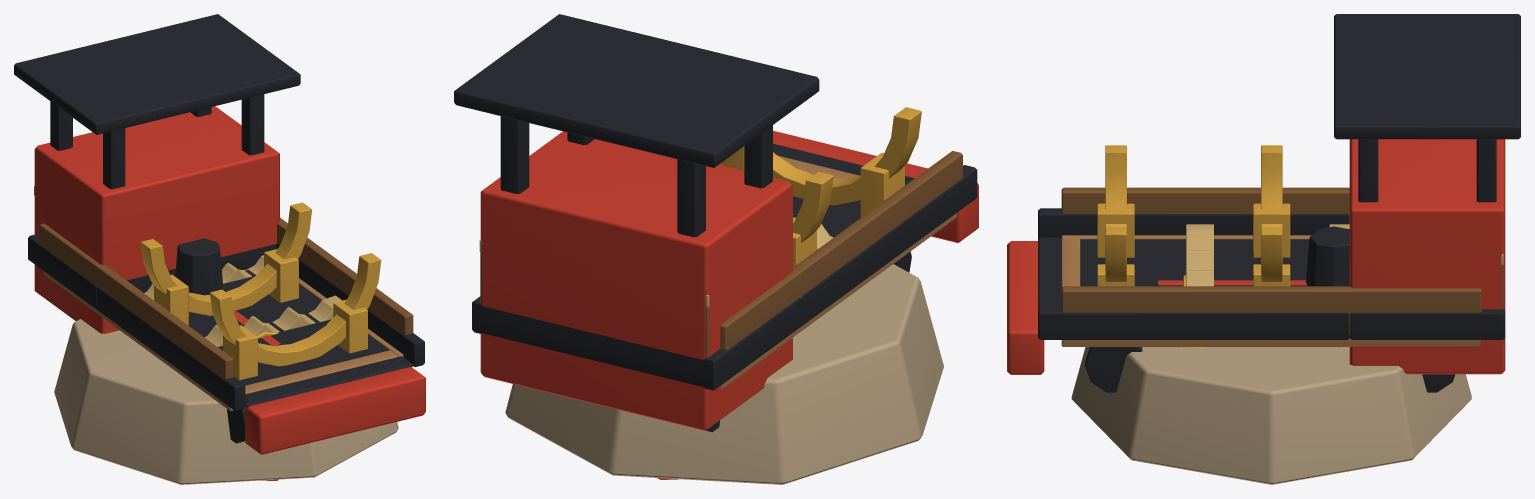
Rendered from boiler-cart.glb.
3 renders of one model, left to right at view 1: azimuth 30°, elevation 25°; view 2: azimuth 150°, elevation 25°; view 3: azimuth 270°, elevation 25°, orthographic. The views are drawn at different scales.
Parts seen in each view (by area): view 1: cab_and_bumper, chassis_roof_and_posts, plinth, empty_saddles, sidewalls_and_handle_posts, deck, grip_and_bearers, chimney, wheels_and_axles; view 2: cab_and_bumper, chassis_roof_and_posts, plinth, sidewalls_and_handle_posts, empty_saddles, deck; view 3: chassis_roof_and_posts, plinth, cab_and_bumper, sidewalls_and_handle_posts, empty_saddles, deck, chimney, wheels_and_axles, grip_and_bearers.
Boxes of the visible parts, x1,y1,x2,y2 form: cab_and_bumper: (34, 106, 425, 454); chassis_roof_and_posts: (14, 14, 424, 410); plinth: (54, 319, 398, 484); empty_saddles: (141, 202, 381, 380); sidewalls_and_handle_posts: (39, 217, 413, 379); deck: (44, 271, 403, 411); grip_and_bearers: (34, 186, 341, 346); chimney: (175, 238, 223, 295); wheels_and_axles: (227, 407, 245, 443); cab_and_bumper: (480, 130, 978, 430); chassis_roof_and_posts: (454, 14, 977, 390); plinth: (505, 264, 943, 484); sidewalls_and_handle_posts: (480, 151, 962, 389); empty_saddles: (720, 107, 921, 267); deck: (719, 155, 956, 389); chassis_roof_and_posts: (1038, 14, 1520, 339); plinth: (1071, 347, 1471, 484); cab_and_bumper: (1007, 139, 1505, 374); sidewalls_and_handle_posts: (1061, 187, 1503, 334); empty_saddles: (1097, 145, 1290, 286); deck: (1061, 235, 1480, 346); chimney: (1306, 226, 1349, 286); wheels_and_axles: (1085, 347, 1455, 392); grip_and_bearers: (1186, 224, 1503, 286).
Bounding box in the file's own units: 2.57 × 2.62 × 3.3.
